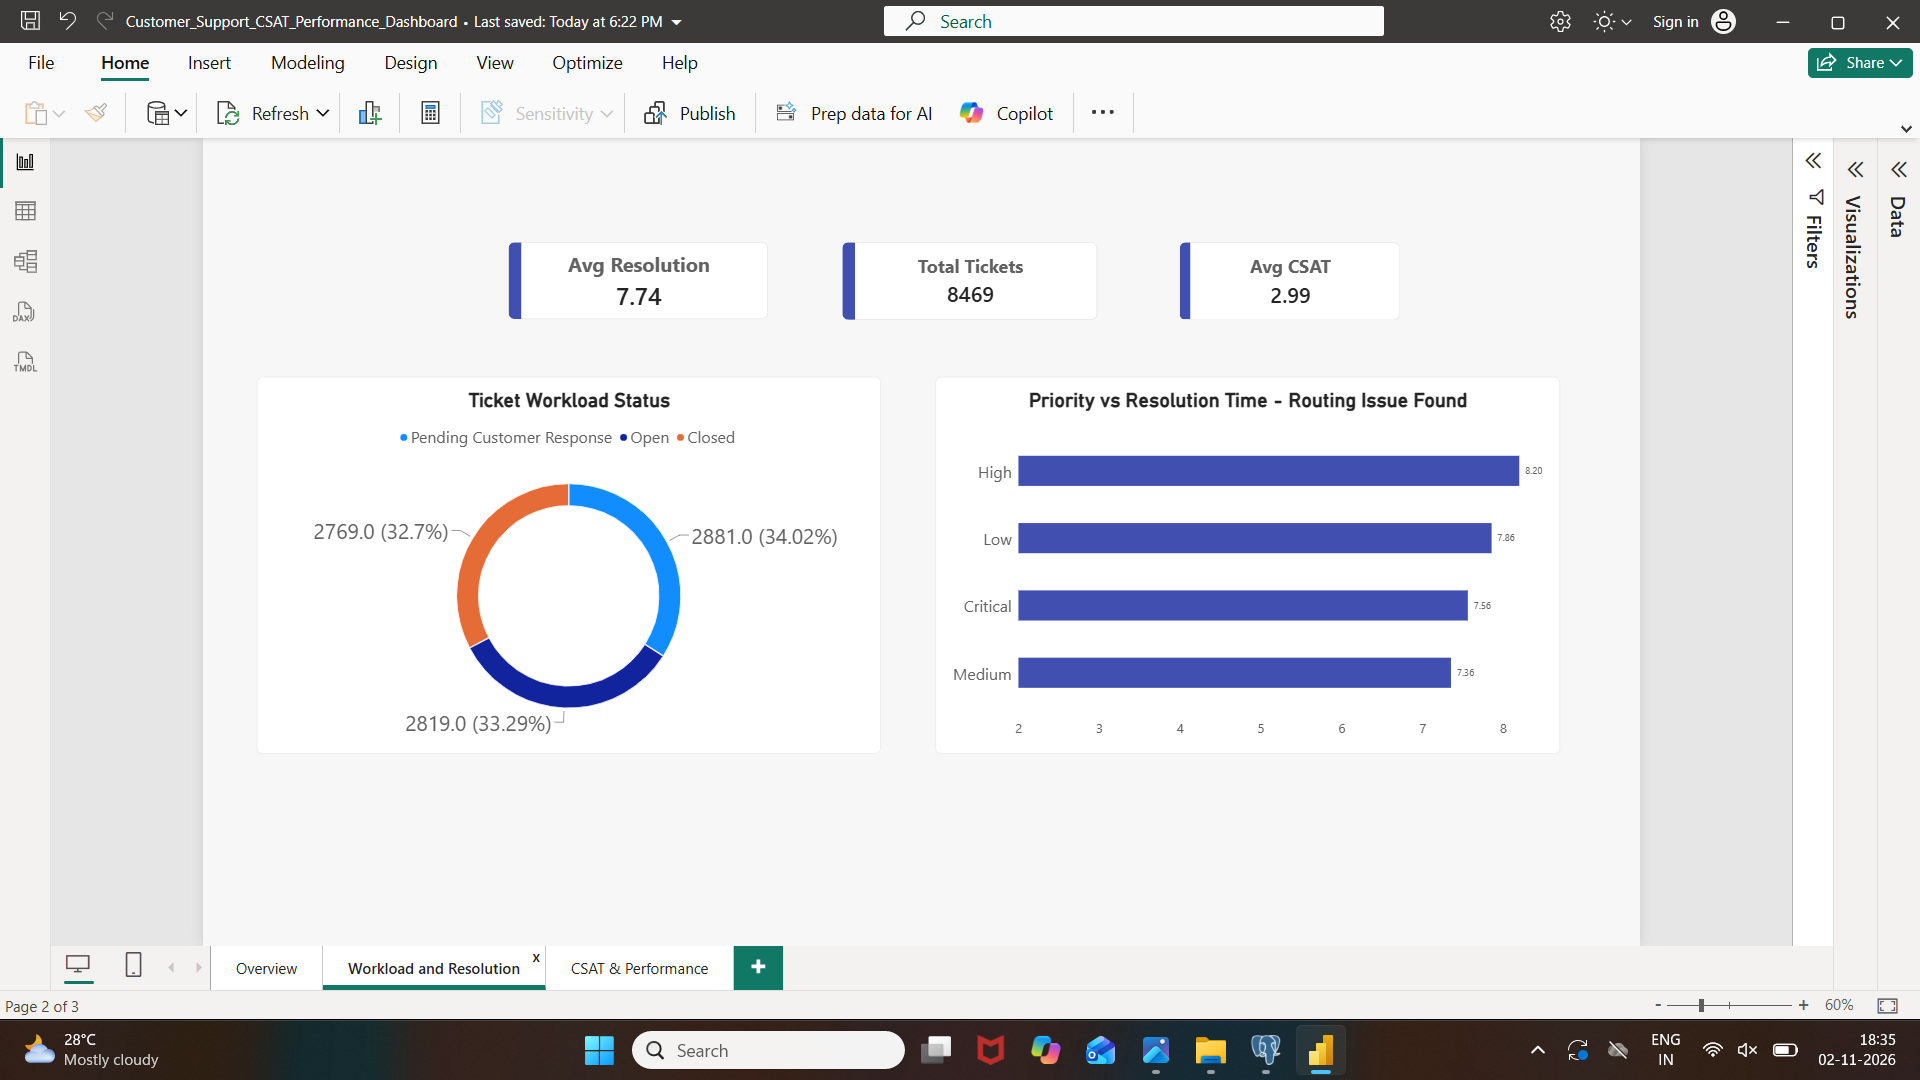

The dashboard page shown, as its layout file describes it:
{"tool":"powerbi","page":{"name":"Workload and Resolution","canvas":[1920,1080],"ordinal":1},"visuals":[{"type":"donutChart","title":"Ticket Workload Status","fields":{"Category":["public support_tickets.ticket_status"],"Y":["CountNonNull(public support_tickets.ticket_id)"]},"box":[71.8,318.9,833.9,504.3],"z":0},{"type":"cardVisual","fields":{"Data":["Avg(public support_tickets.Resolution_Hours)"]},"box":[407.4,138.6,348.8,104.7],"z":1000},{"type":"cardVisual","fields":{"Data":["Count(public support_tickets.ticket_id)"]},"box":[853.3,138.6,343,105.3],"z":2000},{"type":"cardVisual","fields":{"Data":["public support_tickets.AVG CSAT Fixed"]},"box":[1304.1,138.6,294.8,104.7],"z":3000},{"type":"clusteredBarChart","title":"Priority vs Resolution Time - Routing Issue Found","fields":{"Category":["public support_tickets.ticket_priority"],"Y":["Avg(public support_tickets.Resolution_Hours)"]},"box":[978.5,318.9,834,504],"z":4000}]}

Visuals, with their boxes on the page's 1920x1080 design canvas (x1, y1, x2, y2). These are canvas units, not pixel positions in the 1920x1080 screenshot, which may show the page scaled, cropped or inside an application window:
"Ticket Workload Status" donutChart: x1=72 y1=319 x2=906 y2=823
cardVisual - Avg(public support_tickets.Resolution_Hours): x1=407 y1=139 x2=756 y2=243
cardVisual - Count(public support_tickets.ticket_id): x1=853 y1=139 x2=1196 y2=244
cardVisual - public support_tickets.AVG CSAT Fixed: x1=1304 y1=139 x2=1599 y2=243
"Priority vs Resolution Time - Routing Issue Found" clusteredBarChart: x1=978 y1=319 x2=1812 y2=823
